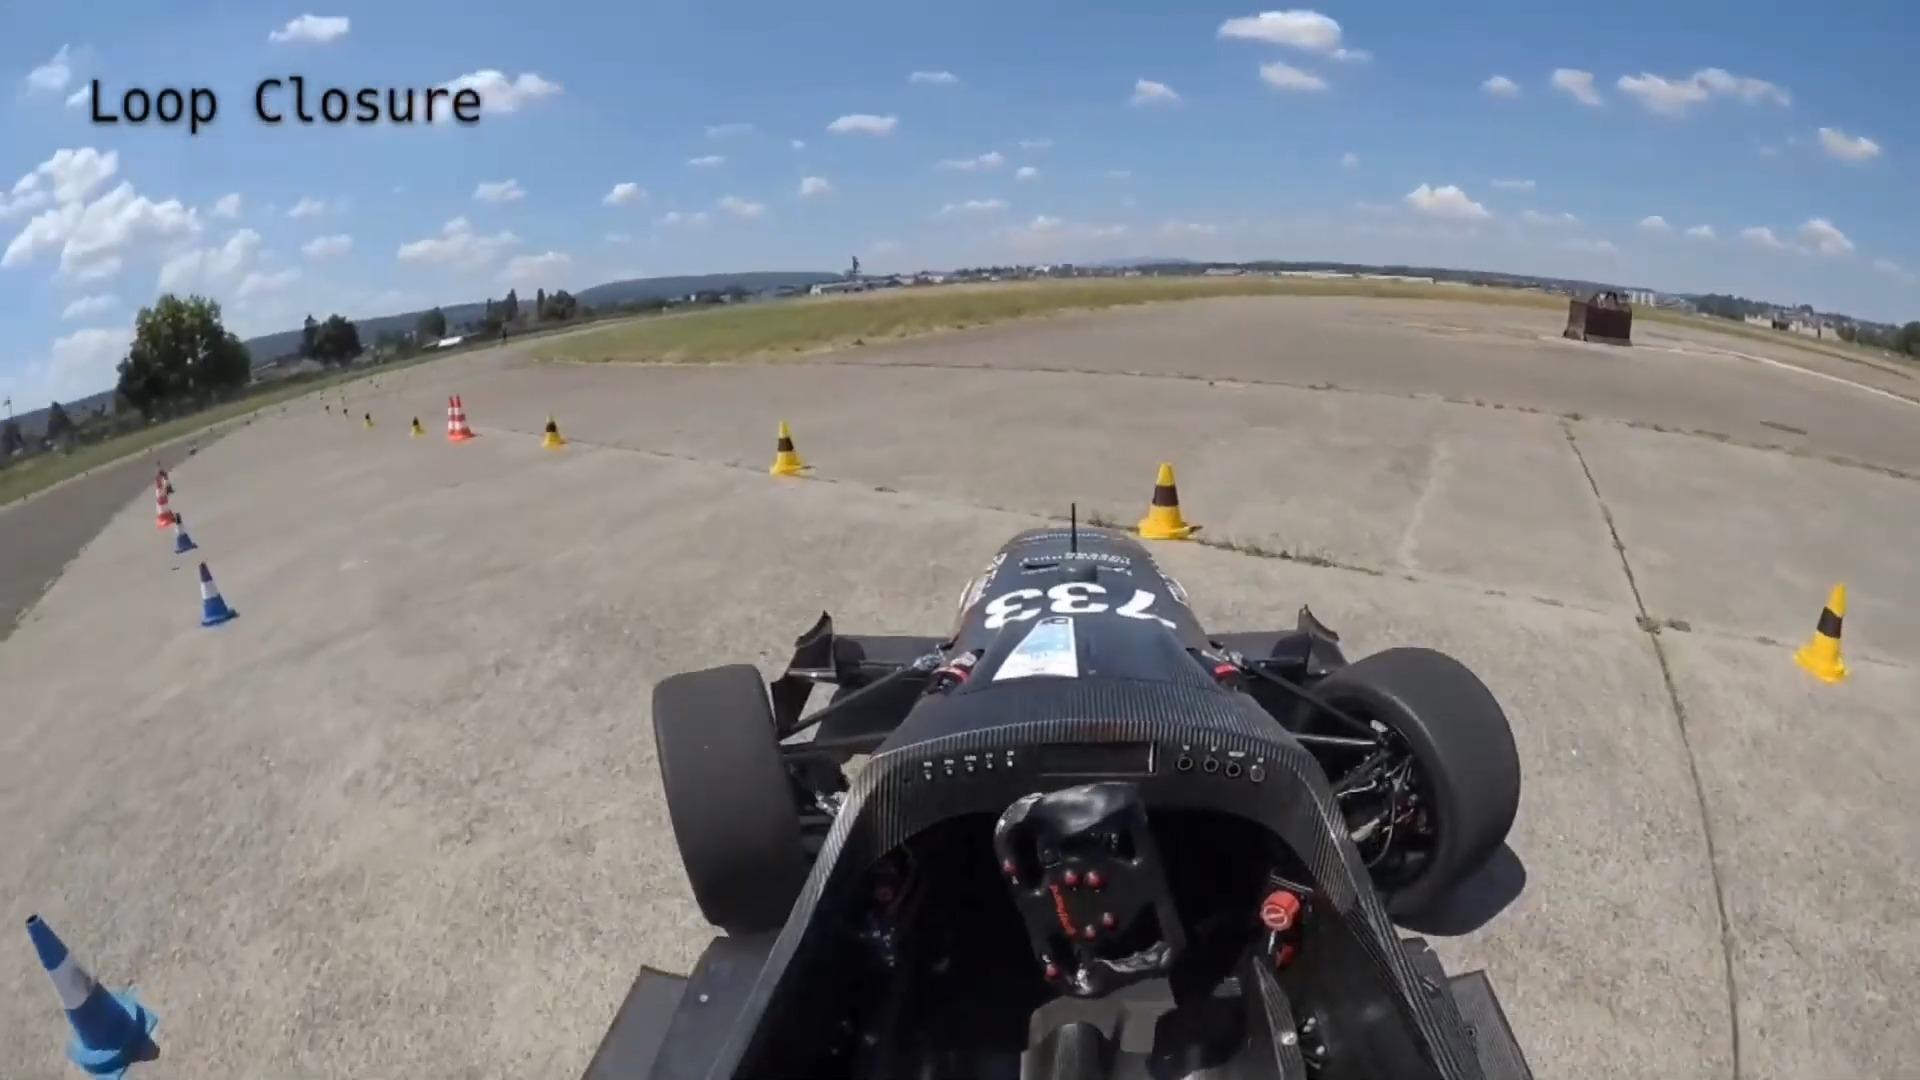blue_cone: (25, 914, 162, 1080), (200, 560, 237, 628), (175, 513, 198, 554)
large_orange_cone: (452, 397, 473, 444), (156, 479, 175, 526)
yellow_cone: (1787, 582, 1854, 687), (1139, 460, 1191, 541), (769, 418, 808, 476), (539, 411, 567, 450)
